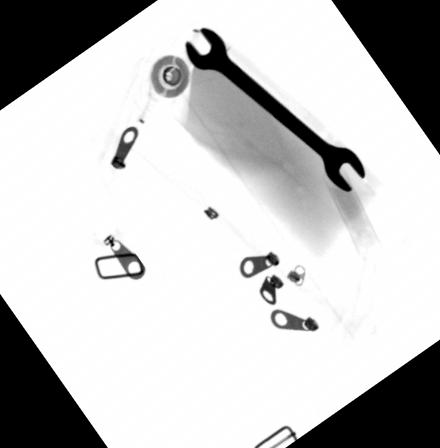Wrench: (183, 27, 365, 195)
